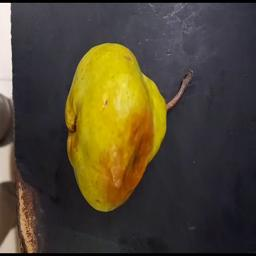Pear Rotten: (51, 32, 197, 222)
